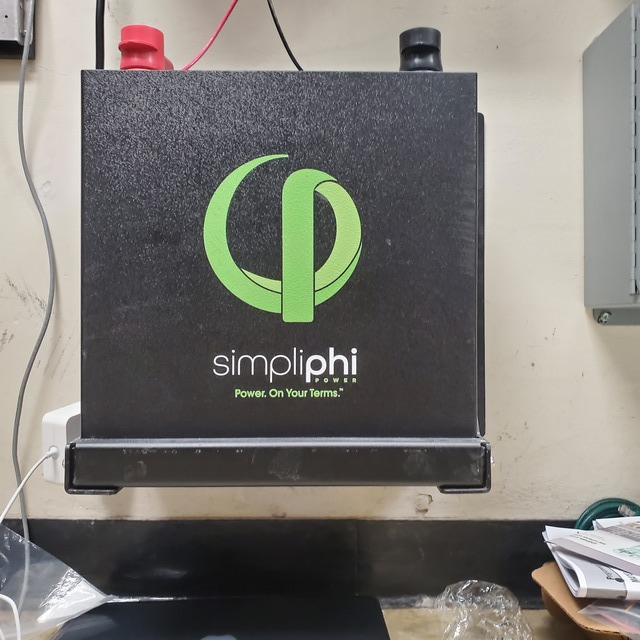battery: (81, 24, 490, 446)
